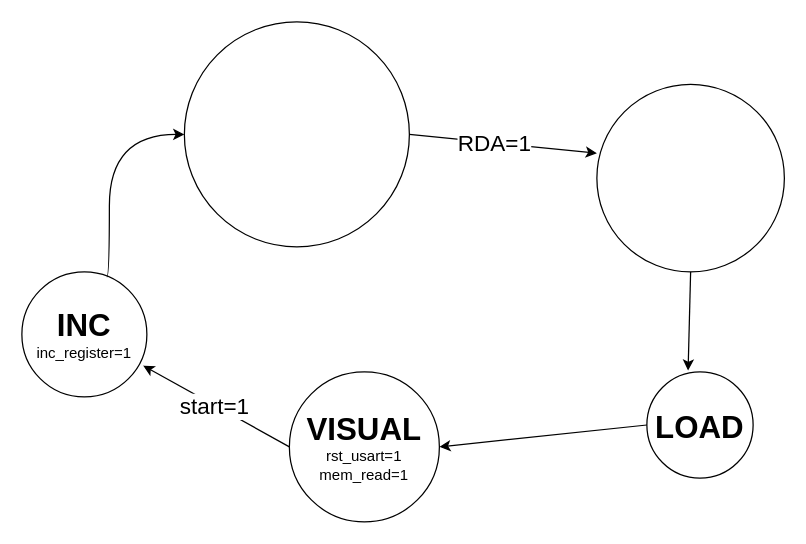
The diagram is 806 pixels wide and 544 high, and some of its shapes have lost their labels. The shapes that lost their labels are listed below. From the top down, each one's centre as x and y in pixels, then its label:
the point at 296,134: IDLE RD=0 mem_in=0 inc_register=0 rst_usart=0 mem_read=0
the point at 690,177: SAVE_DATA mem_in=1
